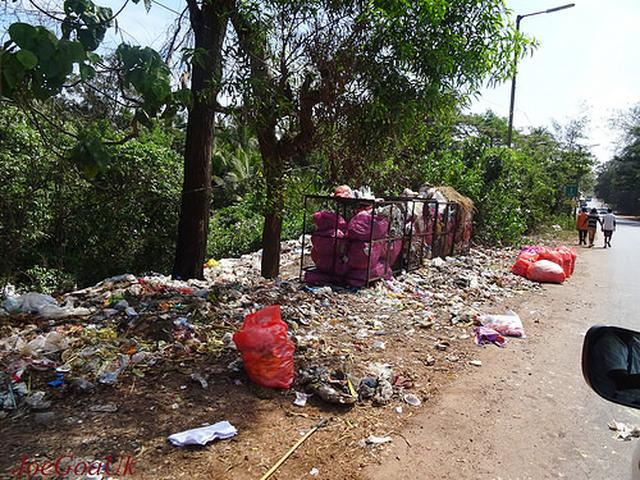garbage: (11, 290, 230, 376)
